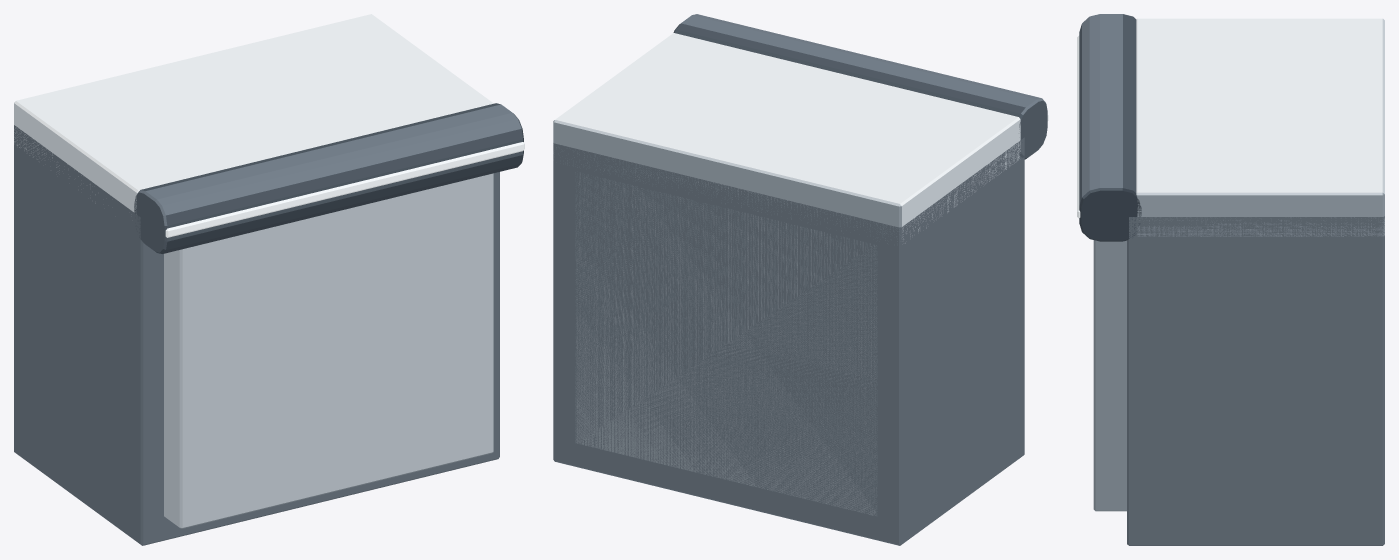
File: Terrain_TopRun1.gltf
3 renders of one model, left to right at view 1: azimuth 30°, elevation 25°; view 2: azimuth 150°, elevation 25°; view 3: azimuth 270°, elevation 25°, orthographic. The views are drawn at different scales.
Parts seen in each view (by area): view 1: Terrain_TopRun1_baked; view 2: Terrain_TopRun1_baked; view 3: Terrain_TopRun1_baked.
Part boxes in pixels (x1,y1,x2,y2): Terrain_TopRun1_baked: (14, 14, 524, 545); Terrain_TopRun1_baked: (553, 14, 1048, 545); Terrain_TopRun1_baked: (1077, 14, 1384, 545).
Size of the model in its own units: 1 by 0.9495 by 0.74.
